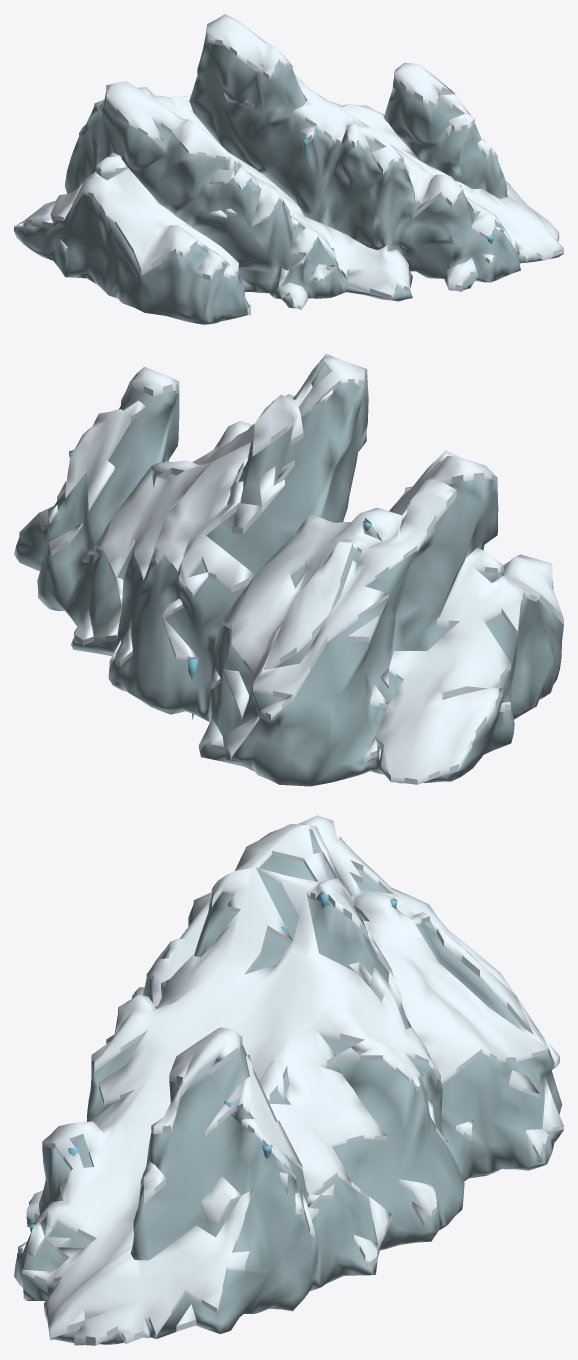
File: ThirdRoom_RockRidge.fbx
3 views of the same model, one above another, from view 1: azimuth 30°, elevation 25°; view 2: azimuth 150°, elevation 25°; view 3: azimuth 270°, elevation 25° (orthographic). The views are drawn at different scales.
Parts seen in each view (by area): view 1: ThirdRoom_RockRidge_LOD0; view 2: ThirdRoom_RockRidge_LOD0; view 3: ThirdRoom_RockRidge_LOD0.
Boxes of the visible parts, bbox=[...] form: ThirdRoom_RockRidge_LOD0: bbox=[14, 14, 563, 324]; ThirdRoom_RockRidge_LOD0: bbox=[14, 353, 563, 786]; ThirdRoom_RockRidge_LOD0: bbox=[14, 815, 563, 1345].
Size of what is drawn, in the model's own units: 6.01 by 3.42 by 4.77.
